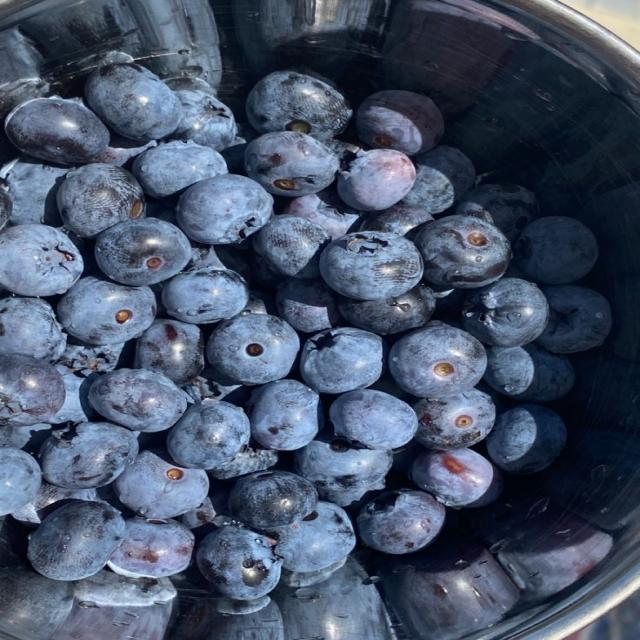blueberry: (474, 496, 612, 602), (379, 535, 519, 639), (273, 557, 394, 639), (57, 570, 177, 639), (28, 501, 125, 580), (85, 63, 182, 140), (246, 70, 352, 140), (389, 321, 486, 397), (414, 216, 511, 289), (5, 97, 109, 164), (320, 232, 422, 300), (177, 174, 273, 244), (58, 277, 156, 345), (95, 218, 191, 286), (56, 164, 145, 237), (207, 314, 299, 384), (114, 451, 208, 519), (295, 440, 393, 505), (40, 423, 138, 488), (197, 526, 281, 600), (89, 368, 186, 431), (245, 132, 339, 197), (269, 502, 355, 572), (0, 224, 83, 296), (462, 278, 548, 347), (167, 400, 251, 469), (514, 216, 598, 284), (300, 327, 385, 394), (357, 490, 445, 554), (356, 91, 444, 155), (132, 141, 227, 198), (412, 448, 502, 508), (487, 405, 566, 473), (330, 389, 418, 450), (247, 380, 322, 450), (107, 518, 194, 578), (484, 344, 574, 402), (0, 567, 73, 638), (229, 471, 318, 529), (537, 286, 612, 352), (414, 389, 495, 450), (162, 267, 248, 324), (404, 145, 475, 214), (337, 149, 416, 211), (339, 284, 436, 334), (456, 184, 539, 242), (253, 215, 329, 278), (0, 354, 65, 426), (134, 319, 204, 385), (2, 156, 68, 226), (175, 597, 284, 639), (0, 297, 66, 361), (172, 89, 237, 151), (12, 481, 98, 527), (283, 189, 359, 239), (276, 279, 340, 332), (0, 447, 41, 515), (49, 365, 95, 424), (360, 203, 433, 239), (183, 366, 250, 405), (208, 448, 279, 479), (57, 344, 123, 377), (94, 134, 157, 168), (0, 423, 51, 454), (178, 498, 216, 529), (187, 246, 230, 270), (220, 137, 247, 174), (324, 139, 362, 163), (0, 188, 13, 230)
